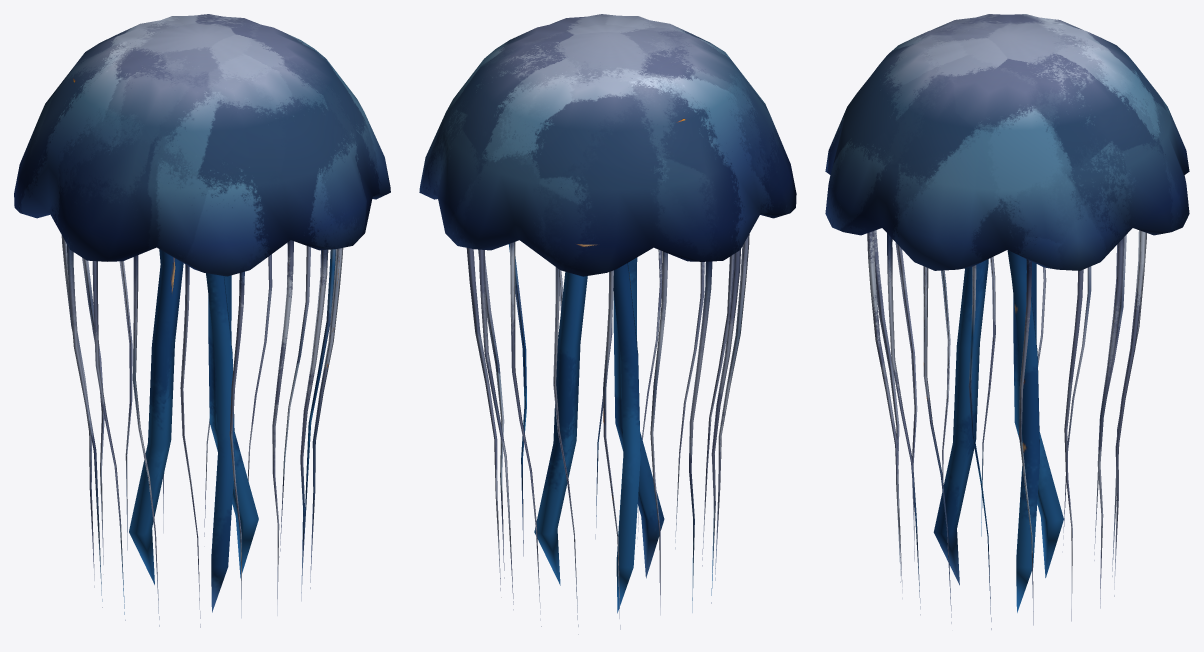
File: Prop_Fish_Jellyfish.fbx
3 renders of one model, left to right at view 1: azimuth 30°, elevation 25°; view 2: azimuth 150°, elevation 25°; view 3: azimuth 270°, elevation 25°, orthographic.
Parts seen in each view (by area): view 1: Jellyfish; view 2: Jellyfish; view 3: Jellyfish.
Part boxes in pixels (bbox=[...]): Jellyfish: bbox=[14, 14, 390, 627]; Jellyfish: bbox=[419, 14, 796, 634]; Jellyfish: bbox=[825, 14, 1189, 629].
Bounding box in the file's own units: 58.44 × 98.73 × 58.44.
1 material, 1 textured.
